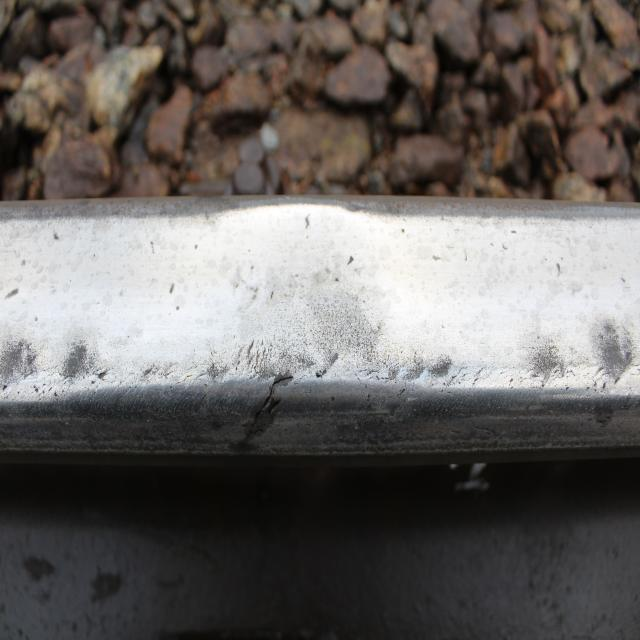broken_rail_medium: (226, 369, 295, 463), (593, 315, 635, 385), (0, 335, 40, 397), (62, 341, 112, 385), (530, 343, 566, 387), (314, 347, 344, 382), (424, 352, 454, 384), (141, 362, 181, 384), (404, 356, 426, 386), (7, 285, 23, 305)
head_checks_high: (200, 199, 366, 399)
